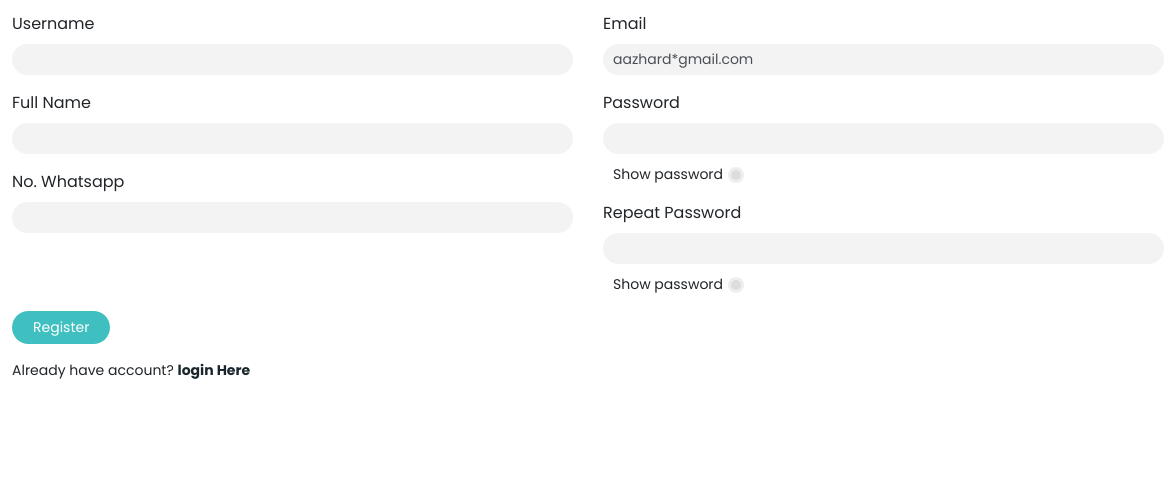
Scenario: Email Test › renders an error when email format is not correct
This screenshot has width=1176, height=478.
Click the button "Register" at (61, 328), box [12,311,110,344]
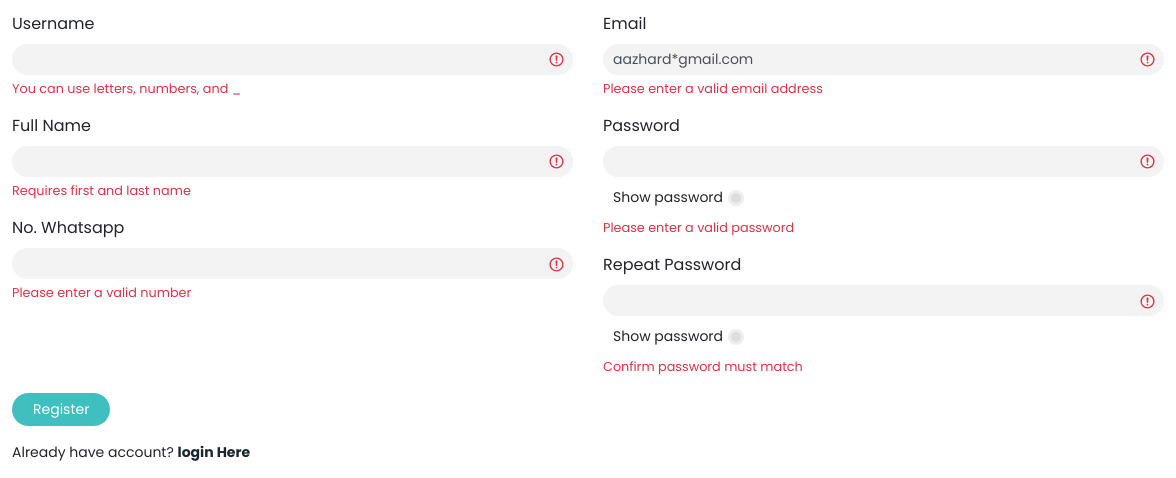
Expected: the text with class "error_email" reads "Please enter a valid email address", [603,80,823,97]
